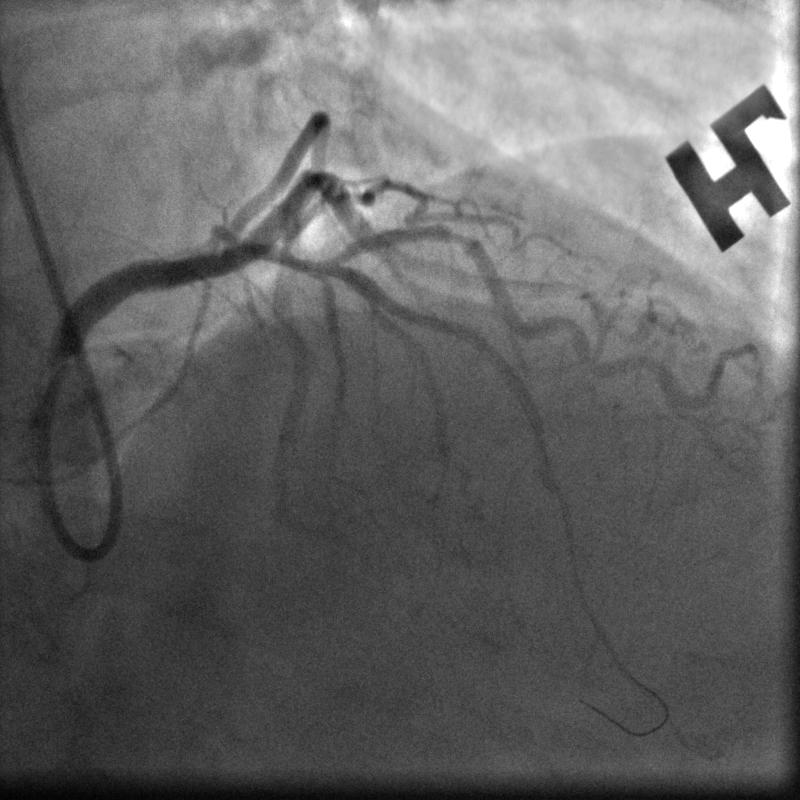Stenosis: (435, 217, 482, 255)
